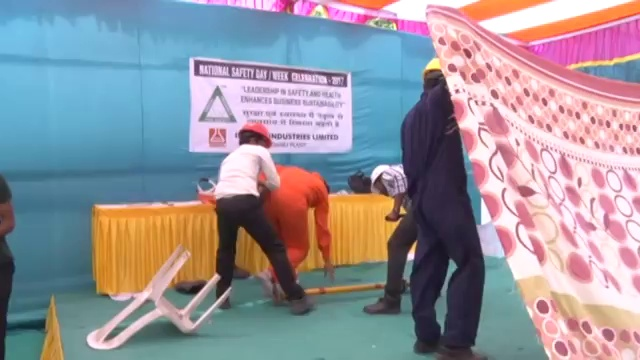helmet: (239, 119, 272, 147), (368, 162, 388, 196), (422, 56, 448, 73)
helmet_on: (418, 56, 447, 96), (236, 120, 271, 150), (370, 163, 391, 194)
person: (398, 54, 488, 360), (210, 119, 312, 315), (258, 158, 336, 303), (367, 157, 413, 315)
